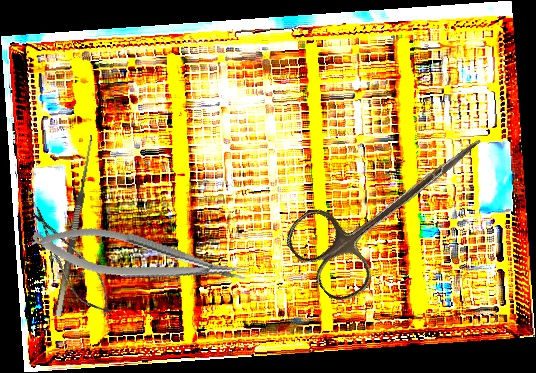Hook Surgical: (44, 133, 97, 317)
Iris Scissors: (278, 98, 508, 311)
Micro Scissor: (19, 199, 123, 325)
Needle Holder: (28, 214, 250, 303)
